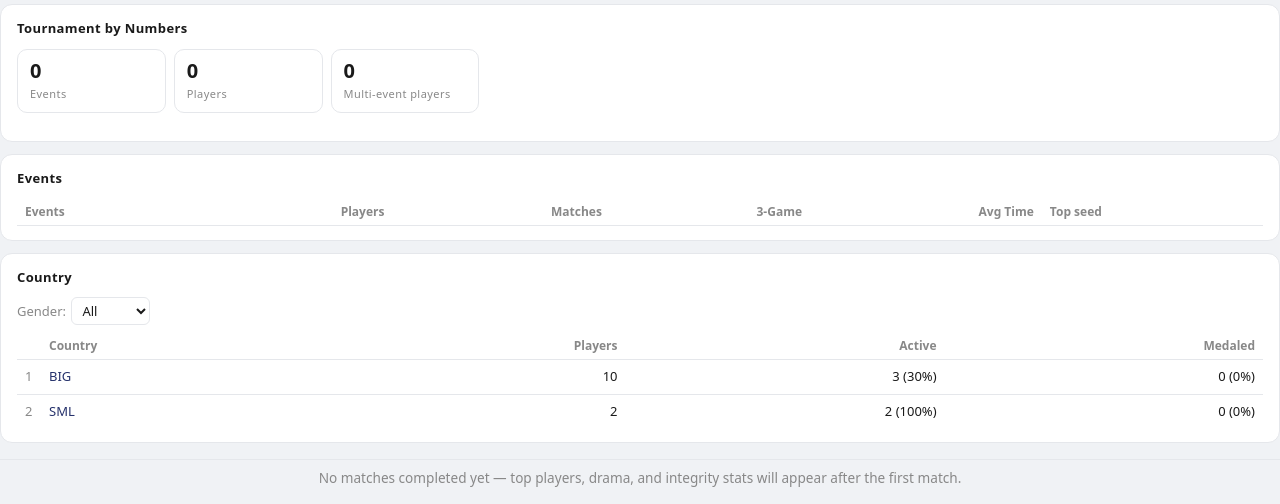
Test: TournamentStatsPanel — country roster controls › Active header sorts by count first, then by % on the next click
// First click → by active count desc: BIG (3) before SML (2).
Click the column heading with class "stats-th-sort" showing "Active": (785, 346) [626,333,944,360]
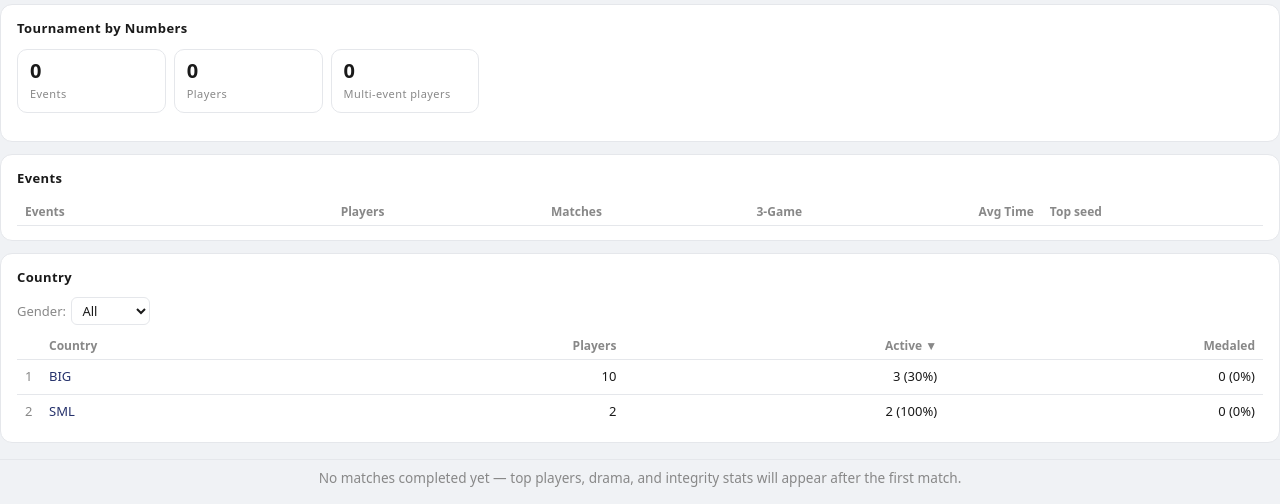
Expected: the column heading with class "stats-th-sort" shows "▼", [922,337,937,354]
// Second click → by active % desc: SML (100%) before BIG (30%).
Click the column heading with class "stats-th-sort" showing "Active ▼": (785, 346) [624,333,945,360]
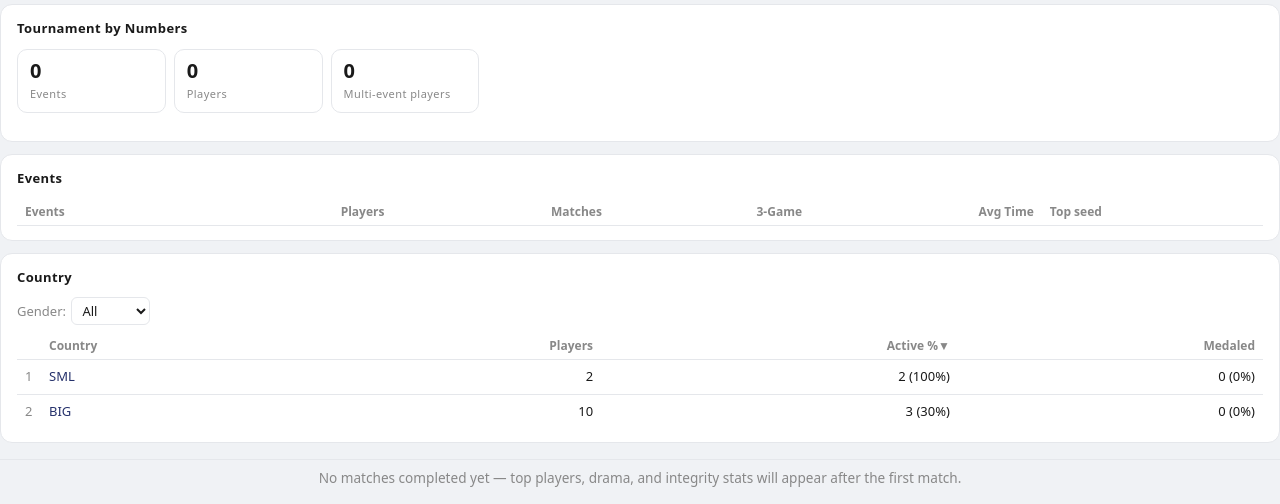
Expected: the column heading with class "stats-th-sort" shows "%▼", [924,337,950,354]
